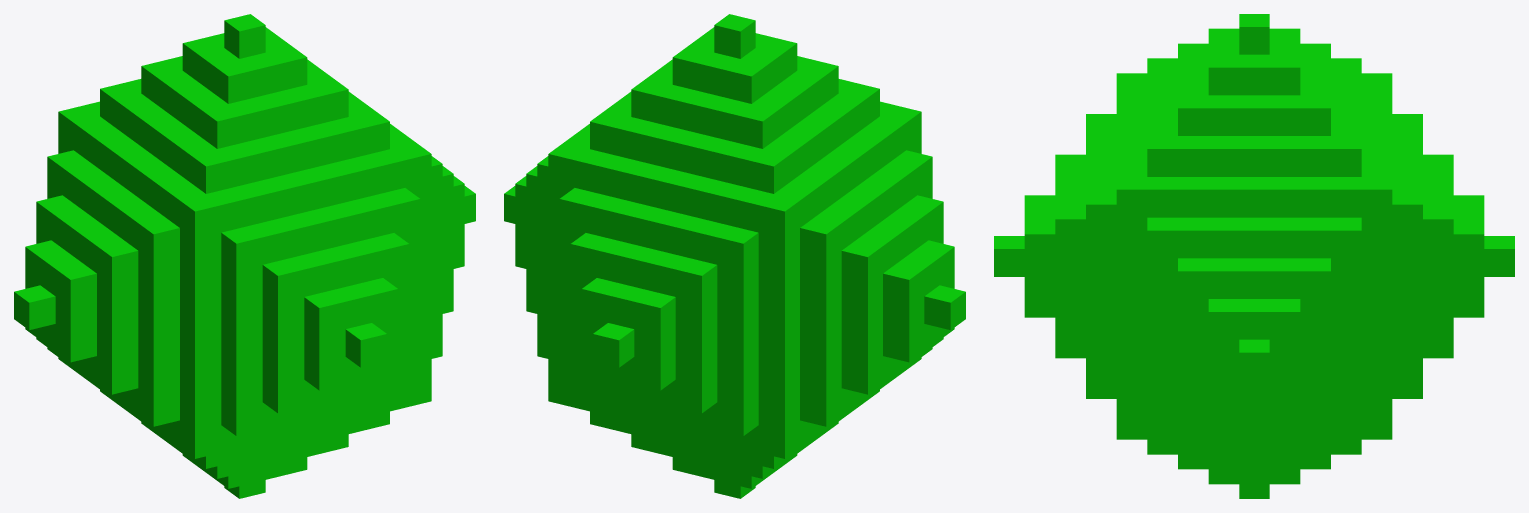
File: life orb.obj
The picture shows the model from 3 angles, left to right: view 1: azimuth 30°, elevation 25°; view 2: azimuth 150°, elevation 25°; view 3: azimuth 270°, elevation 25°; orthographic projection.
Size of the model in its own units: 1.7 by 1.7 by 1.7.
1 material, 1 textured.
